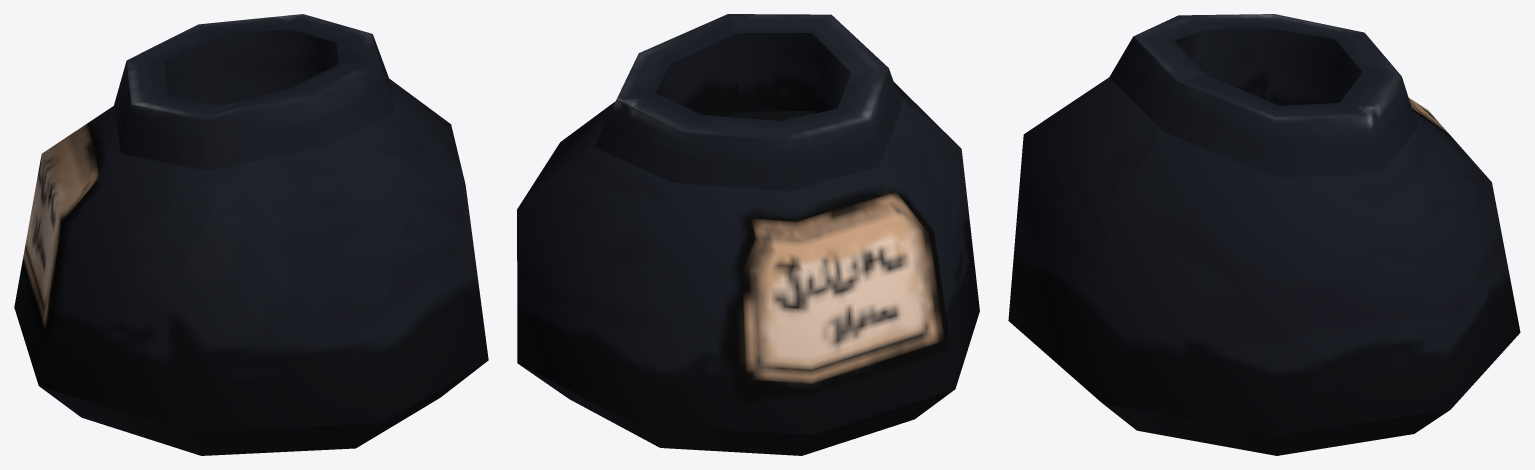
File: SM_PROP_ink_interior.fbx
3 views of the same model, side by side, from view 1: azimuth 30°, elevation 25°; view 2: azimuth 150°, elevation 25°; view 3: azimuth 270°, elevation 25° (orthographic). The views are drawn at different scales.
Parts seen in each view (by area): view 1: SM_PROP_ink_interior; view 2: SM_PROP_ink_interior; view 3: SM_PROP_ink_interior.
Part boxes in pixels (x1=…): SM_PROP_ink_interior: x1=14, y1=14, x2=488, y2=455; SM_PROP_ink_interior: x1=517, y1=14, x2=979, y2=455; SM_PROP_ink_interior: x1=1008, y1=14, x2=1520, y2=455.
Size of the model in its own units: 11.4 by 8.53 by 11.91.
